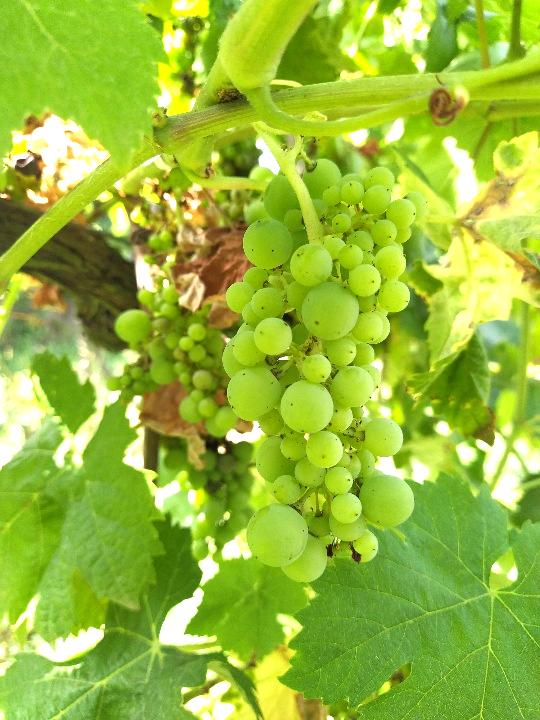grape: (221, 154, 420, 584)
